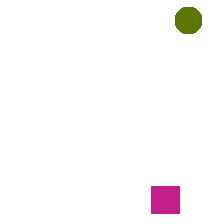circle: (175, 7, 201, 33)
rectangle: (151, 186, 179, 213)
